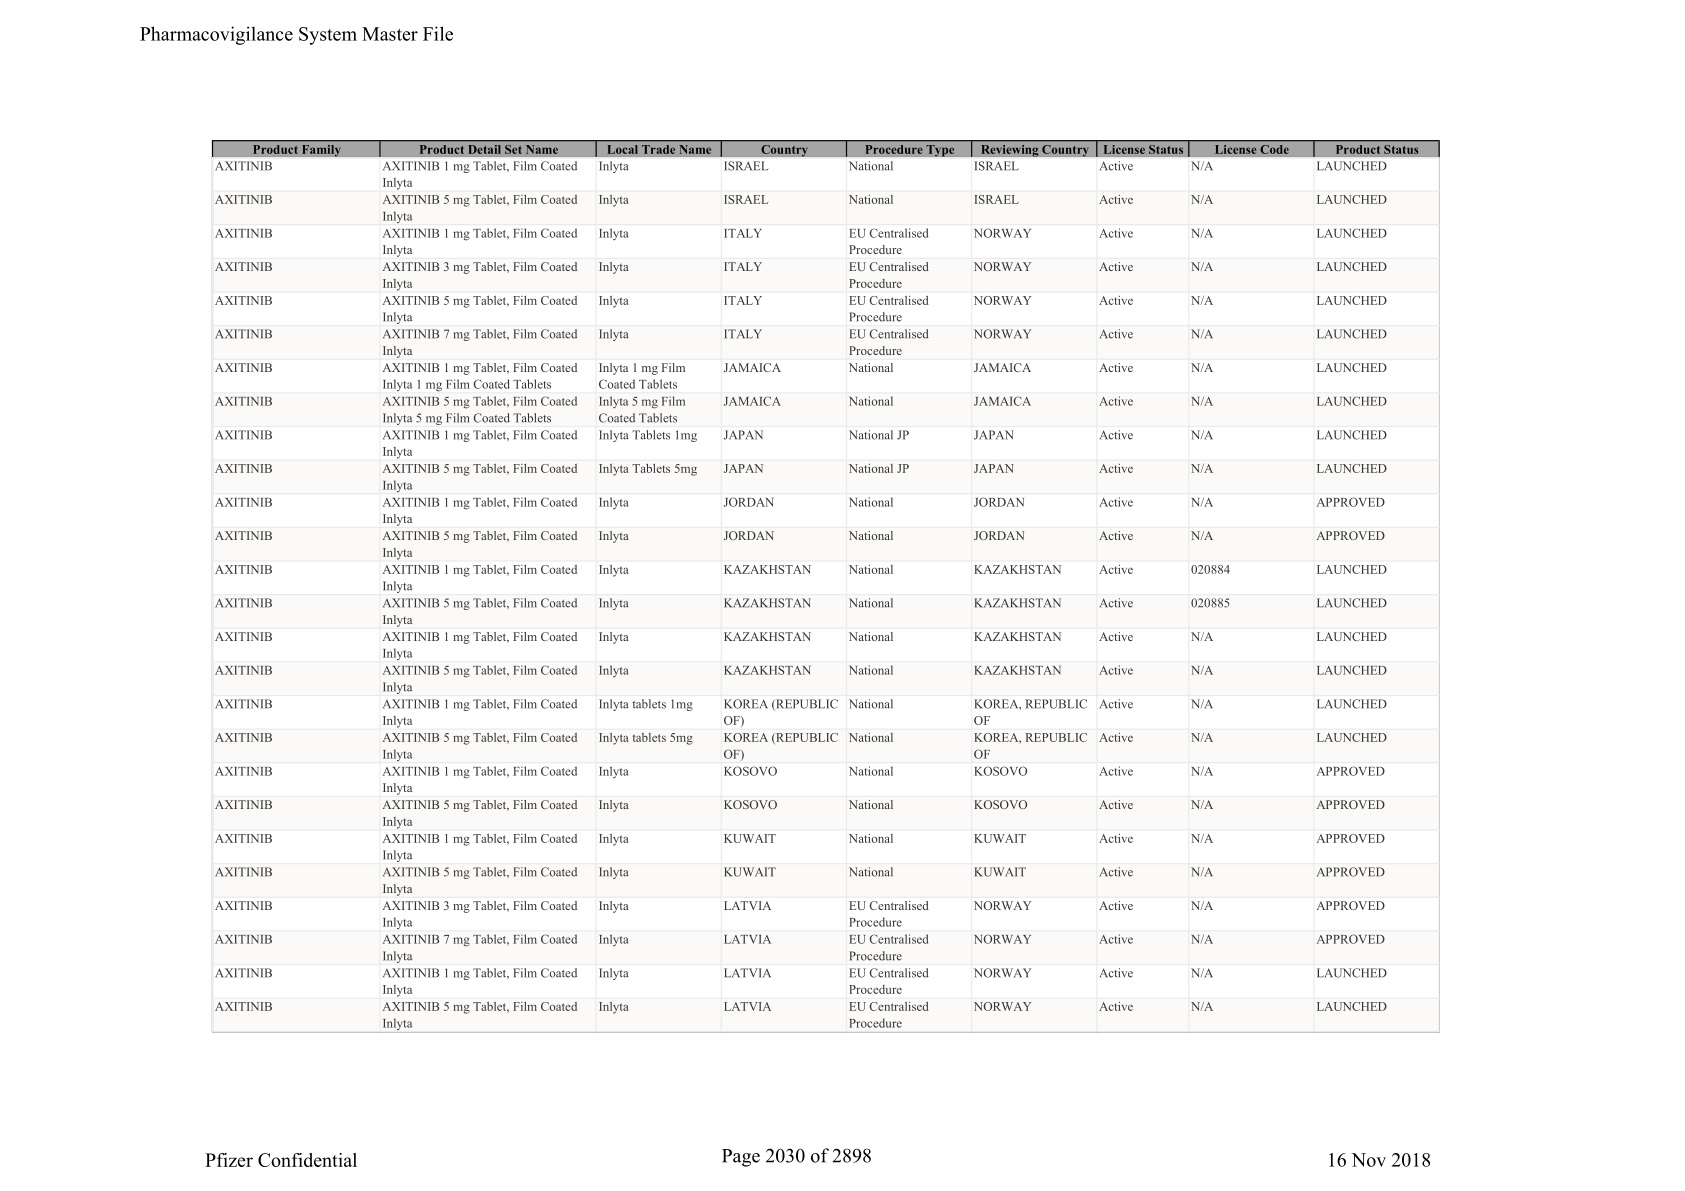full_lined: (211, 140, 1441, 1032)
